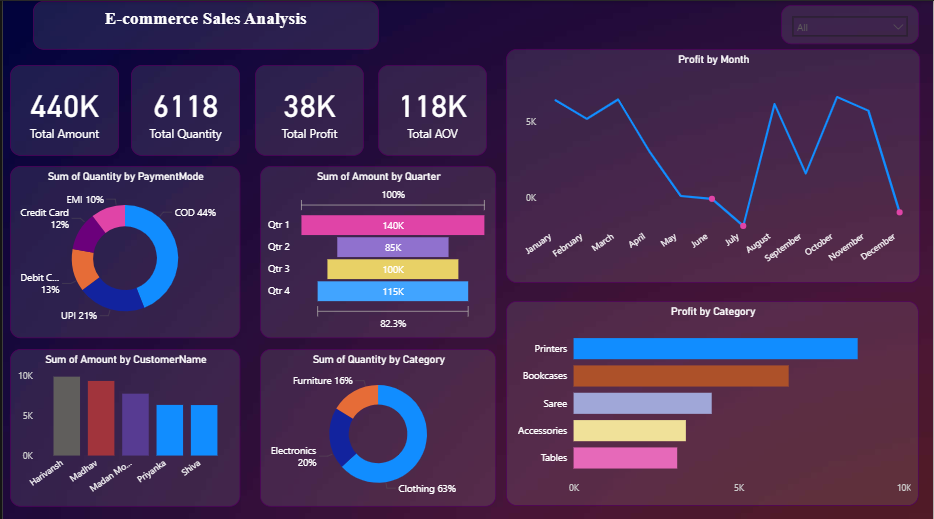

This screenshot's page, from the dashboard's own definition file:
{"tool":"powerbi","page":{"name":"Page 1","canvas":[1280,720],"ordinal":0},"visuals":[{"type":"textbox","box":[41.4,0,475.7,67.1],"z":0},{"type":"columnChart","title":"Profit by Month","fields":{"Category":["Orders.Order Date.Variation.Date Hierarchy.Month"],"Y":["Sum(Details.Profit)"]},"box":[691.7,66.7,570,321.7],"z":1000},{"type":"clusteredBarChart","title":"Profit by Category","fields":{"Y":["Sum(Details.Profit)"],"Category":["Details.Sub-Category"]},"box":[691.7,413.3,568.3,281.7],"z":2000},{"type":"donutChart","fields":{"Category":["Details.Category"],"Y":["Sum(Details.Quantity)"]},"box":[353.3,478.3,325,216.7],"z":3000},{"type":"card","fields":{"Values":["Sum(Details.Amount)"]},"box":[10,88.3,150,125],"z":4000},{"type":"card","fields":{"Values":["Sum(Details.Quantity)"]},"box":[176.7,88.3,150,125],"z":5000},{"type":"card","fields":{"Values":["Sum(Details.Profit)"]},"box":[346.7,88.3,150,125],"z":6000},{"type":"card","fields":{"Values":["Sum(Details.AOV)"]},"box":[516.7,88.3,150,125],"z":7000},{"type":"clusteredBarChart","title":"Sum of Amount by Quarter","fields":{"Category":["Orders.Order Date.Variation.Date Hierarchy.Quarter"],"Y":["Sum(Details.Amount)"]},"box":[10,228.3,316.7,236.7],"z":8000},{"type":"clusteredColumnChart","fields":{"Y":["Sum(Details.Amount)"],"Category":["Orders.CustomerName"]},"box":[10,478.3,316.7,216.7],"z":9000},{"type":"slicer","fields":{"Values":["Orders.State"]},"box":[1071.4,5.7,190,54.3],"z":10000},{"type":"donutChart","fields":{"Y":["Sum(Details.Quantity)"],"Category":["Details.PaymentMode"]},"box":[353.3,228.3,325,236.7],"z":11000}]}

Visuals, with their boxes in screenshot pixels (x1, y1, x2, y2), scaled from the page's 1280x720 canvas onto the 934x519 screenshot:
textbox: {"left": 30, "top": 0, "right": 377, "bottom": 48}
"Profit by Month" columnChart: {"left": 505, "top": 48, "right": 921, "bottom": 280}
"Profit by Category" clusteredBarChart: {"left": 505, "top": 298, "right": 919, "bottom": 501}
donutChart - Details.Category x Sum(Details.Quantity): {"left": 258, "top": 345, "right": 495, "bottom": 501}
card - Sum(Details.Amount): {"left": 7, "top": 64, "right": 117, "bottom": 154}
card - Sum(Details.Quantity): {"left": 129, "top": 64, "right": 238, "bottom": 154}
card - Sum(Details.Profit): {"left": 253, "top": 64, "right": 362, "bottom": 154}
card - Sum(Details.AOV): {"left": 377, "top": 64, "right": 486, "bottom": 154}
"Sum of Amount by Quarter" clusteredBarChart: {"left": 7, "top": 165, "right": 238, "bottom": 335}
clusteredColumnChart - Sum(Details.Amount) x Orders.CustomerName: {"left": 7, "top": 345, "right": 238, "bottom": 501}
slicer - Orders.State: {"left": 782, "top": 4, "right": 920, "bottom": 43}
donutChart - Sum(Details.Quantity) x Details.PaymentMode: {"left": 258, "top": 165, "right": 495, "bottom": 335}
